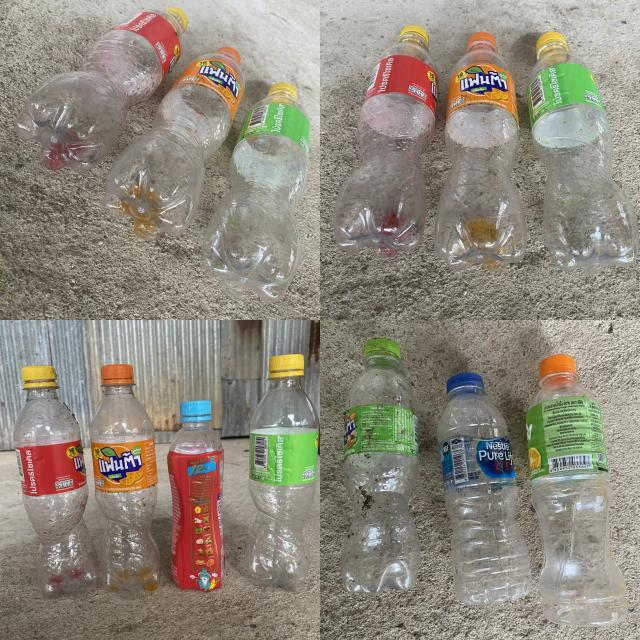plastik: (526, 354, 628, 626), (15, 10, 186, 172), (105, 48, 245, 240), (526, 35, 638, 271), (334, 25, 438, 258), (202, 82, 310, 302), (435, 31, 526, 270), (438, 372, 531, 605), (341, 338, 420, 594), (14, 366, 98, 598), (248, 354, 319, 591), (90, 364, 160, 599), (168, 400, 224, 591)
